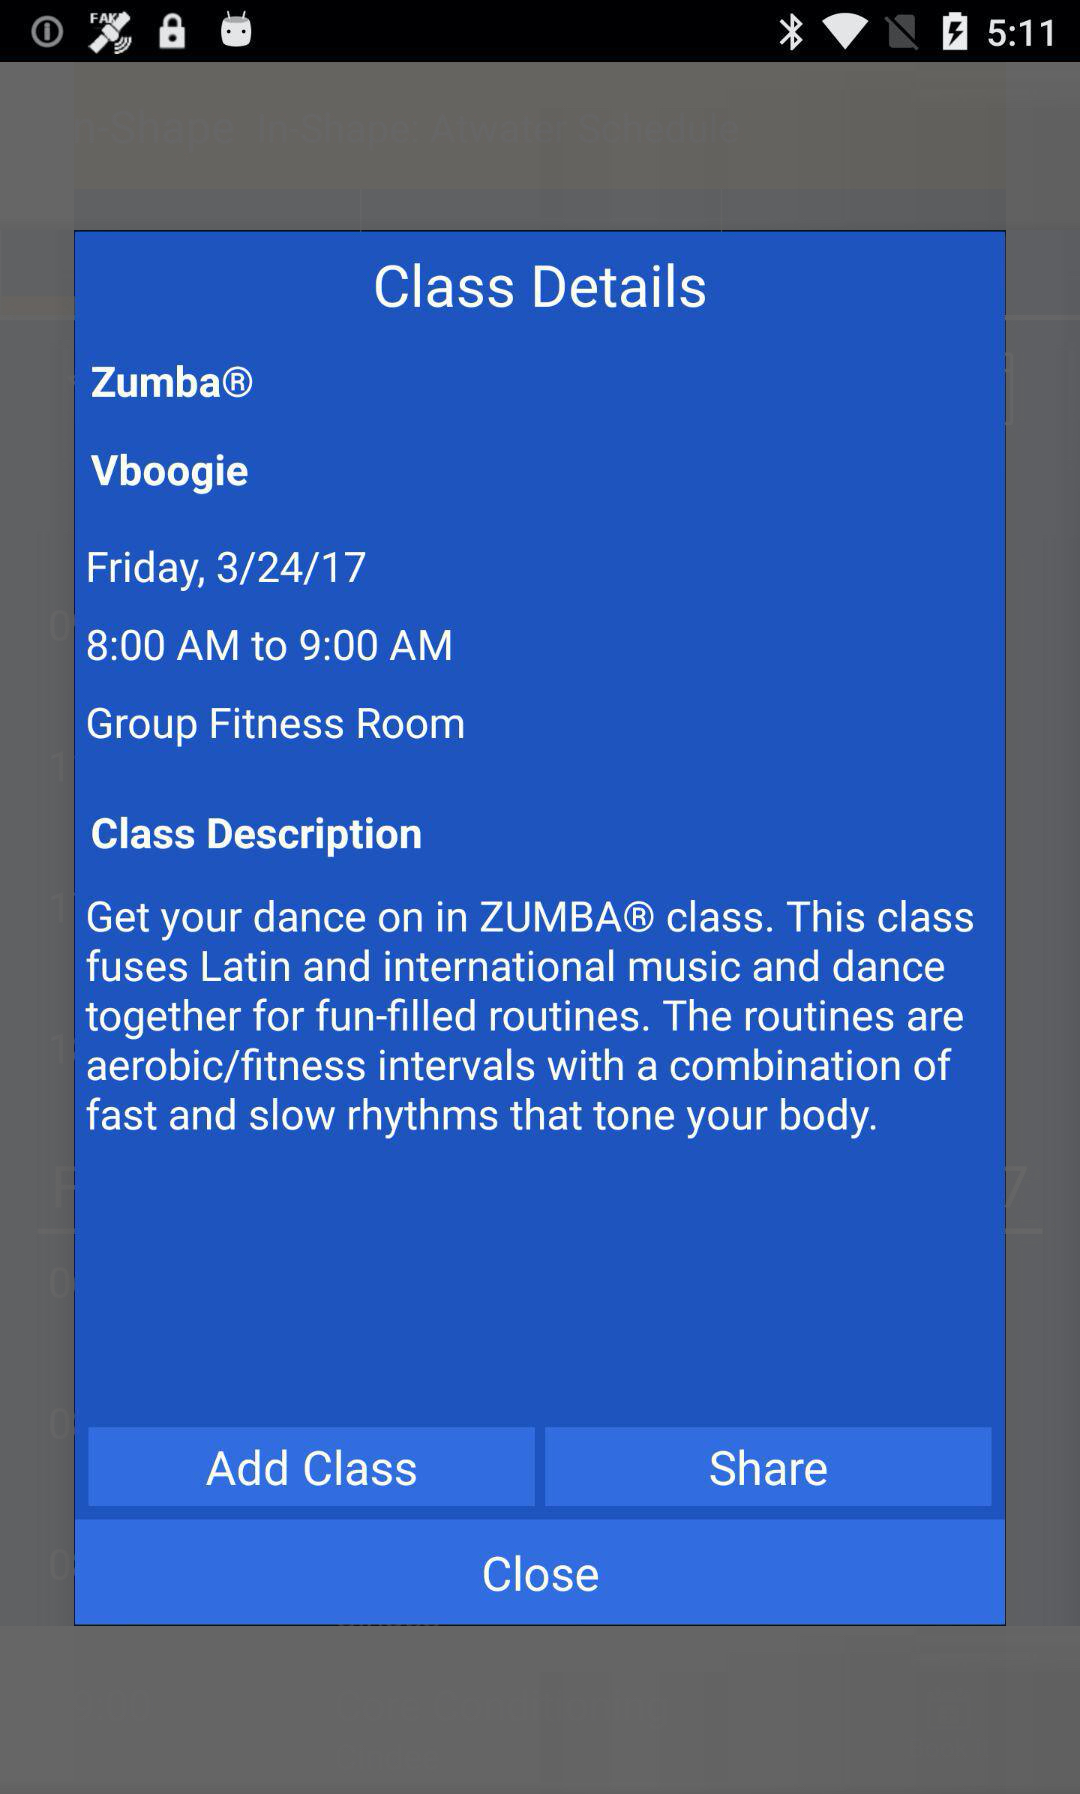Modal: (76, 231, 1004, 1625)
Text: (85, 901, 974, 1138), (377, 263, 705, 310), (88, 707, 462, 748), (92, 816, 421, 859), (88, 628, 452, 662), (88, 551, 366, 591), (90, 454, 249, 496), (88, 366, 252, 399)
TextButton: (76, 1518, 1004, 1626), (544, 1426, 993, 1507), (88, 1426, 537, 1507)
UpperTaskBar: (1, 1, 1080, 64)
